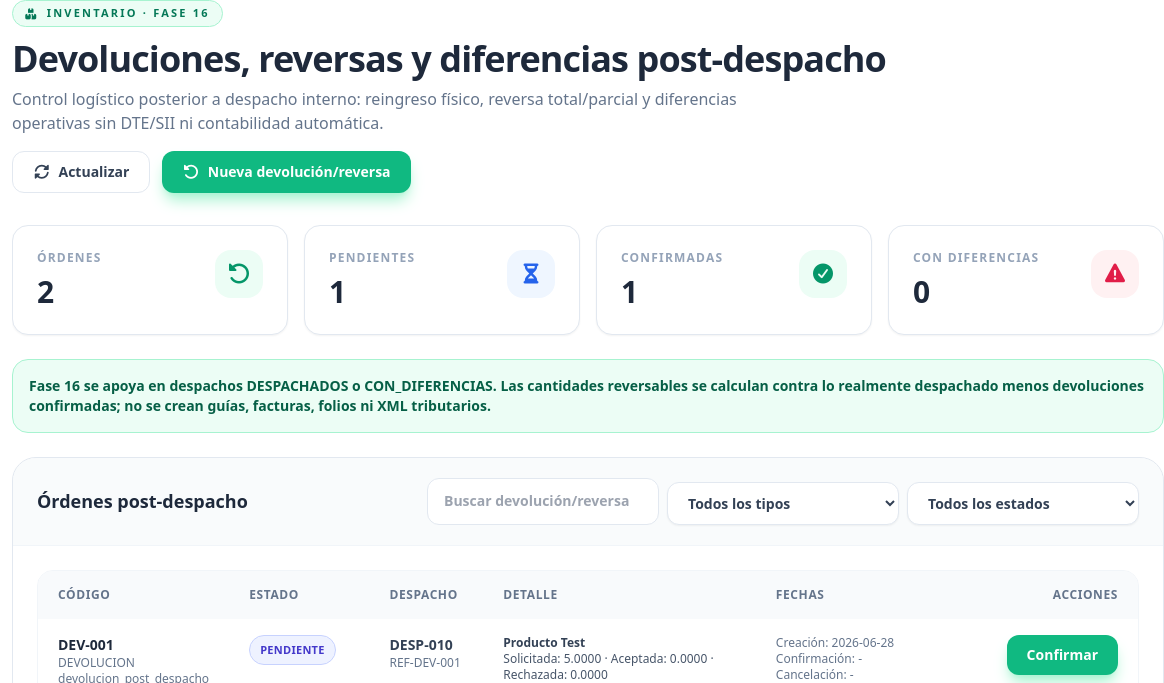
Test case: DevolucionesInventario (vista) › filtra devoluciones por tipo
Check: the text "DEV-001" is shown, box [58,635,114,654]
Select "REVERSA_TOTAL" in the 1st dropdown showing "Todos los tipos" at (783, 503), box [667,482,899,525]
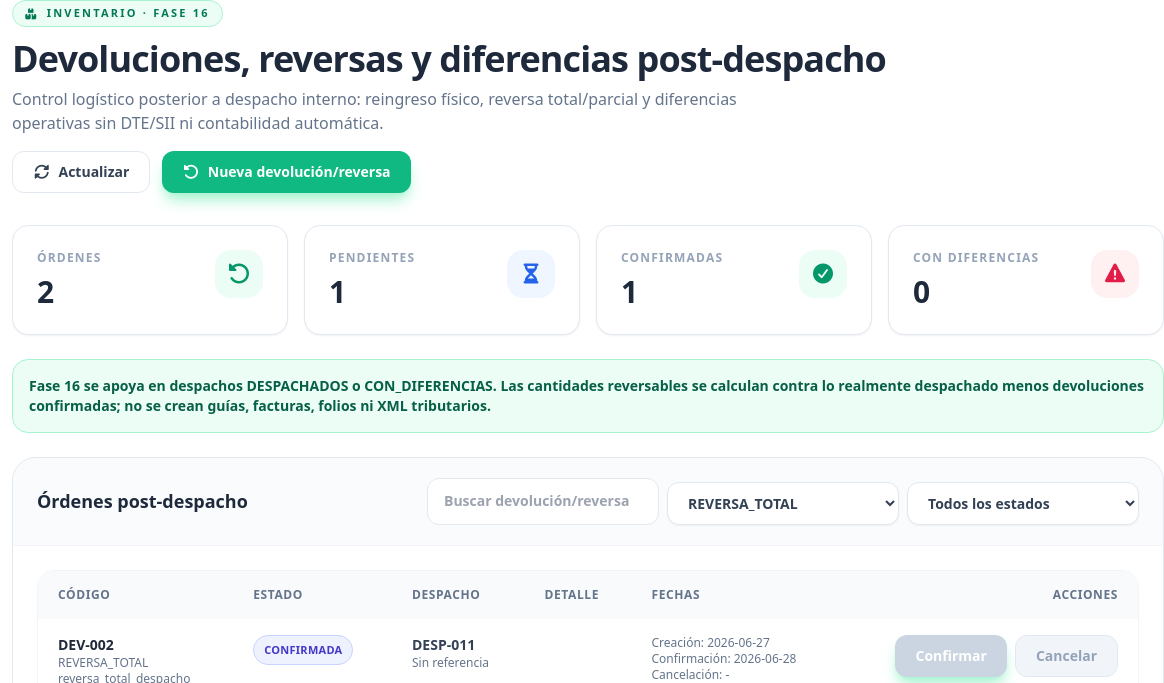
Check: the text "DEV-002" is shown, box [58,635,114,654]
Check: the text "DEV-001" is gone
